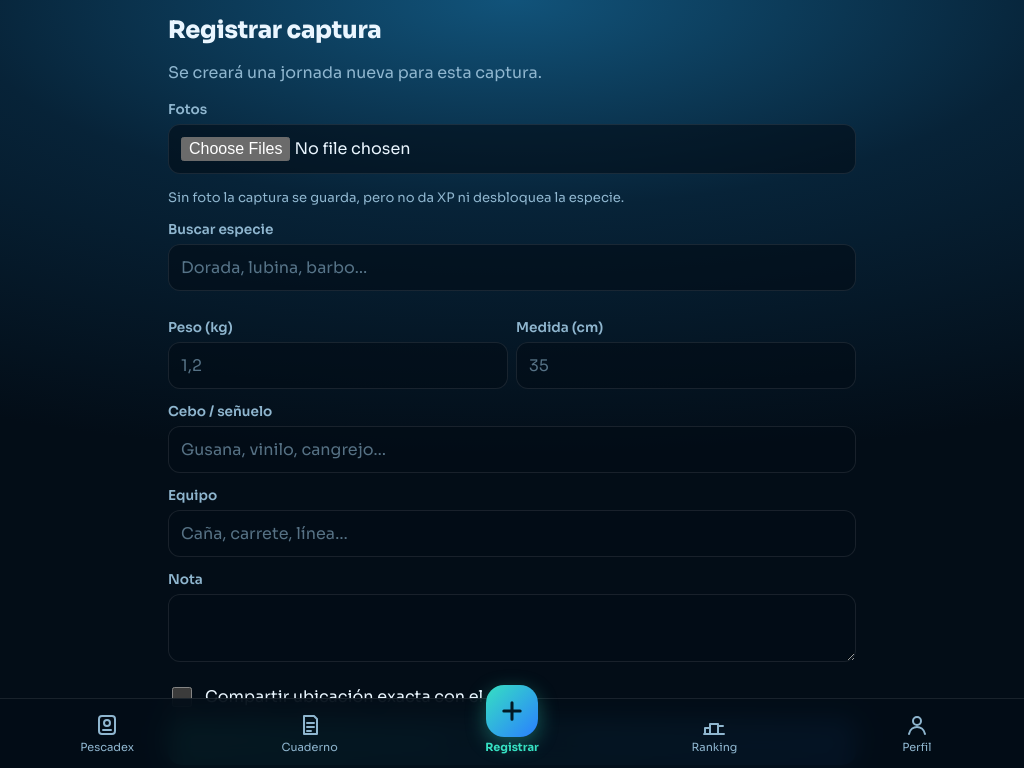
no deja crear una especie que ya existe con ese nombre
In the field labelled "Buscar especie": (512, 267) [168,244,856,291], type "zzz"
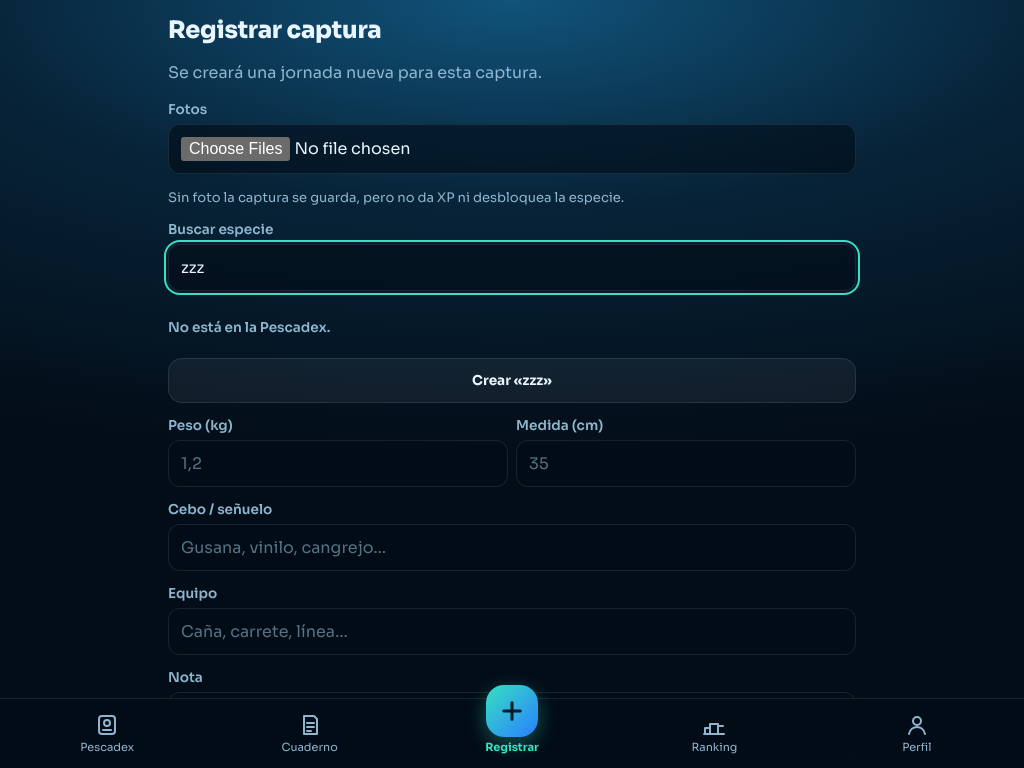
Click the button "Crear «zzz»": click(512, 381) [168,358,856,403]
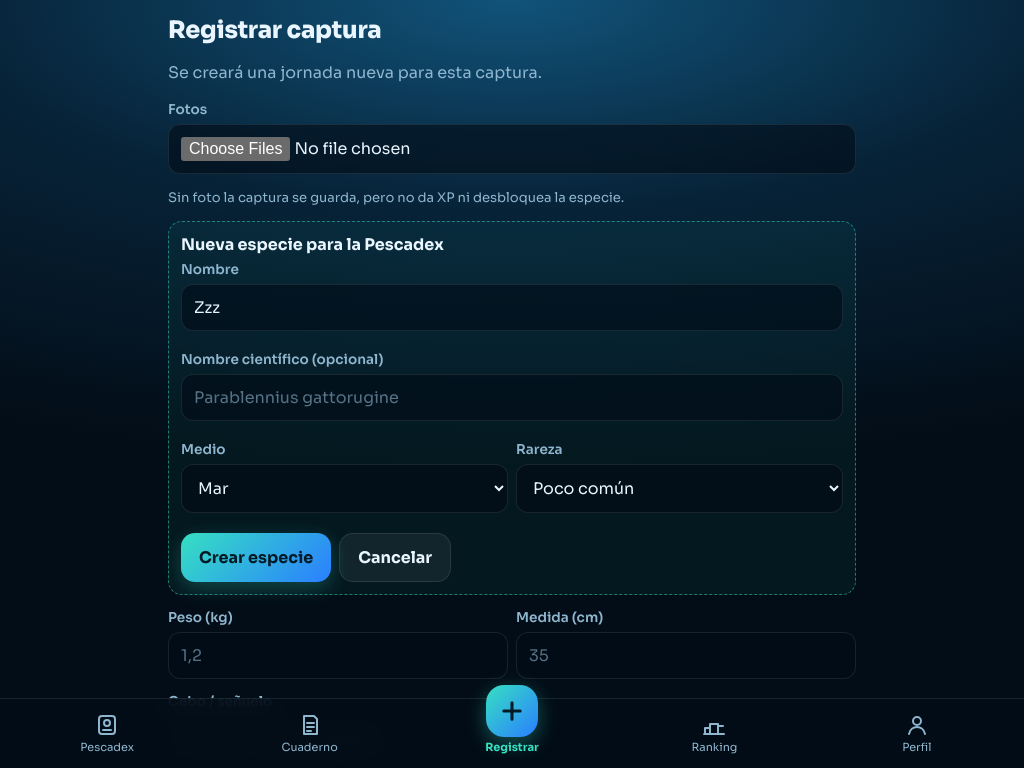
Replace the text in the field labelled "Nombre" with "dorada": (512, 307) [181,284,843,331]
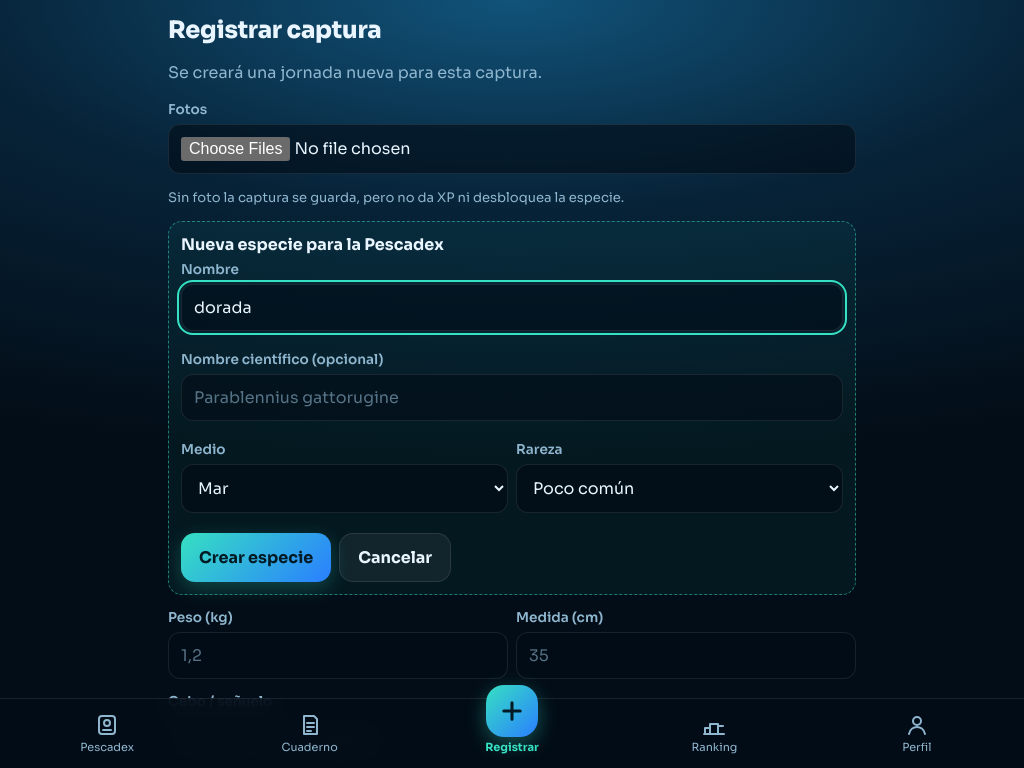
Click the button "Crear especie": click(256, 557) [181,533,331,582]
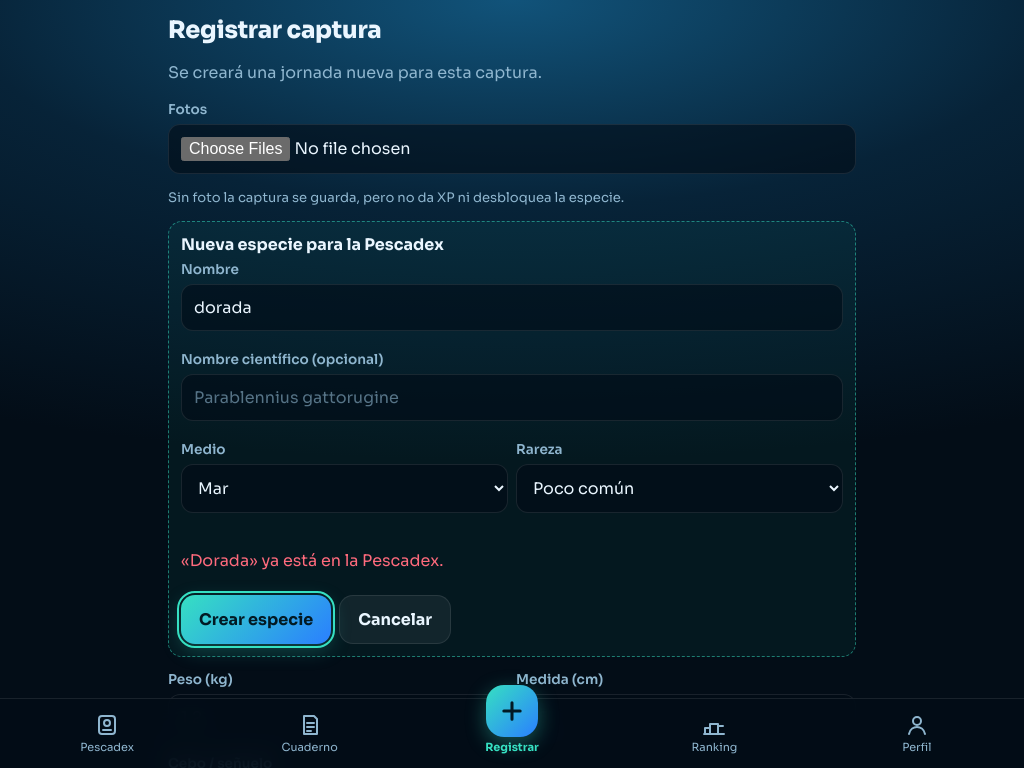
Expected: the text "«Dorada» ya está en la Pescadex." is shown, [181,550,443,571]
